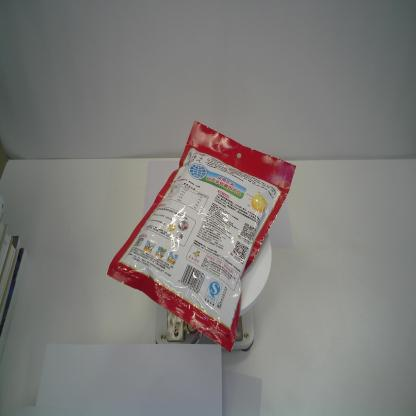Instant Drink: (106, 119, 296, 352)
